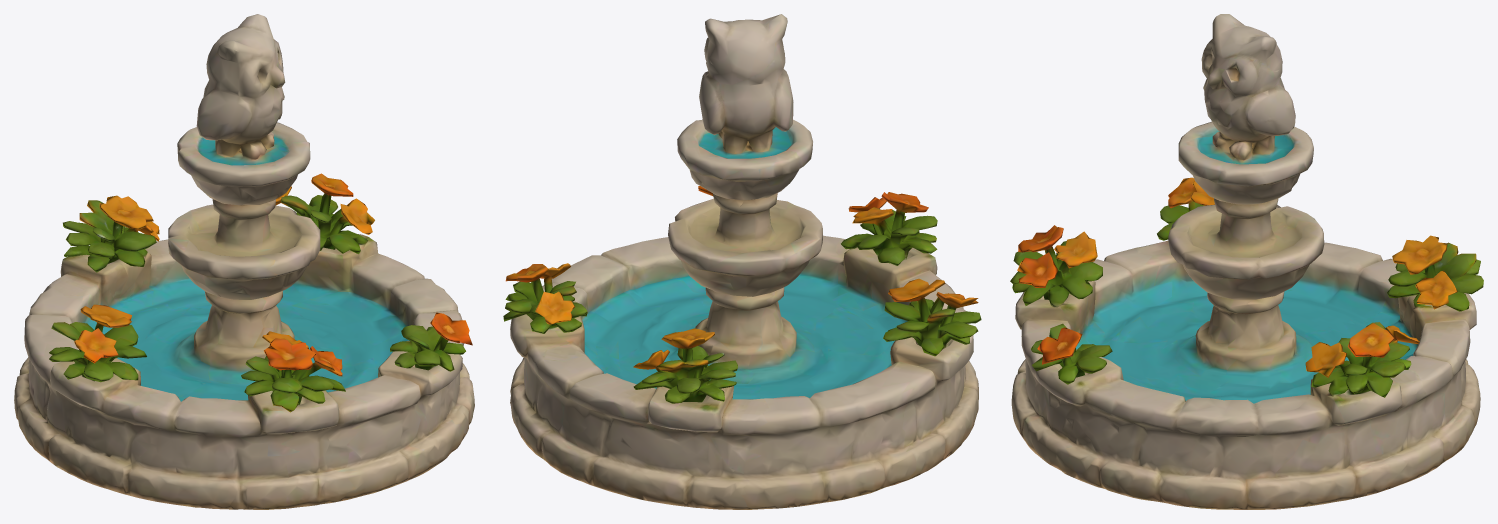
File: fountain.glb
3 renders of one model, left to right at view 1: azimuth 30°, elevation 25°; view 2: azimuth 150°, elevation 25°; view 3: azimuth 270°, elevation 25°, orthographic.
Visible parts, largest first — view 1: tripo_node_df213532-4dd2-4a11-9949-151266e9ed77; view 2: tripo_node_df213532-4dd2-4a11-9949-151266e9ed77; view 3: tripo_node_df213532-4dd2-4a11-9949-151266e9ed77.
Boxes of the visible parts, bbox=[...] form: tripo_node_df213532-4dd2-4a11-9949-151266e9ed77: bbox=[14, 14, 474, 509]; tripo_node_df213532-4dd2-4a11-9949-151266e9ed77: bbox=[503, 14, 981, 509]; tripo_node_df213532-4dd2-4a11-9949-151266e9ed77: bbox=[1010, 14, 1483, 509].
Size of the model in its own units: 1 by 0.9014 by 0.9953.
1 material, 1 textured.
